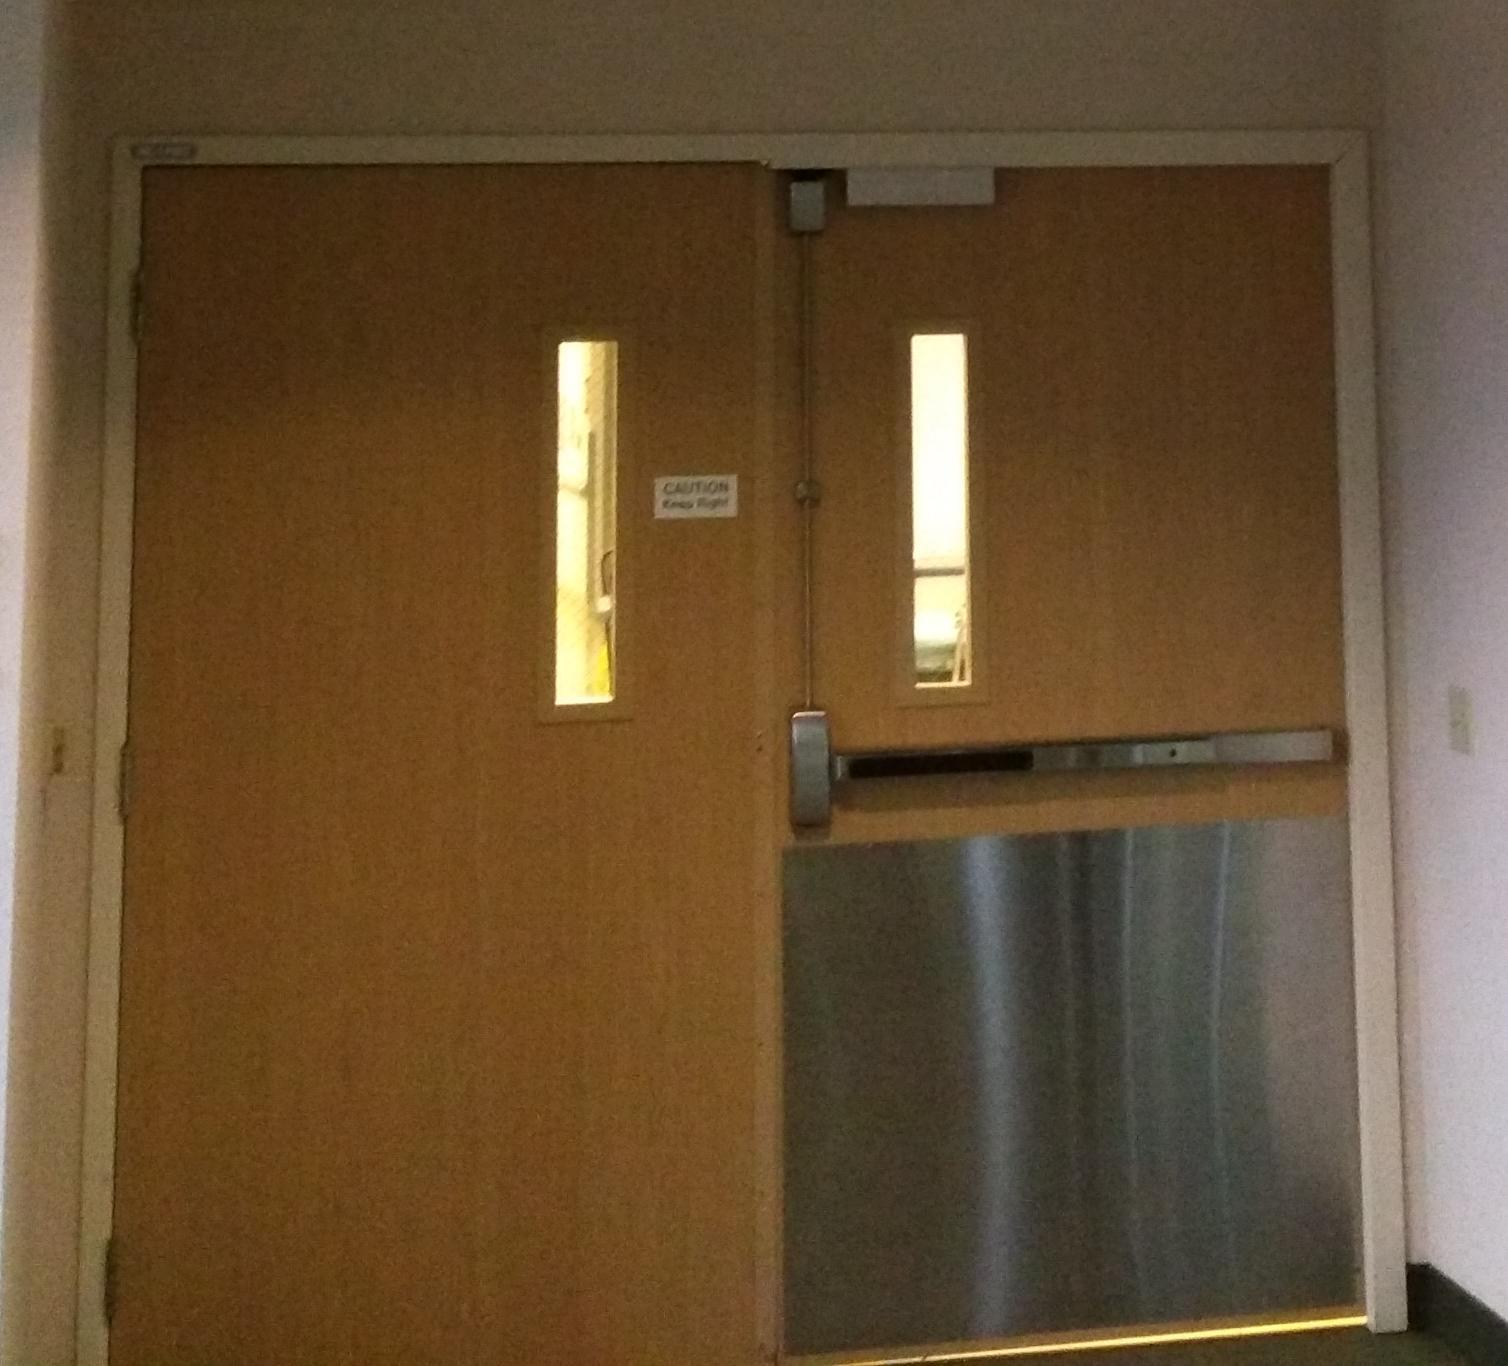door: (126, 160, 1382, 1331)
